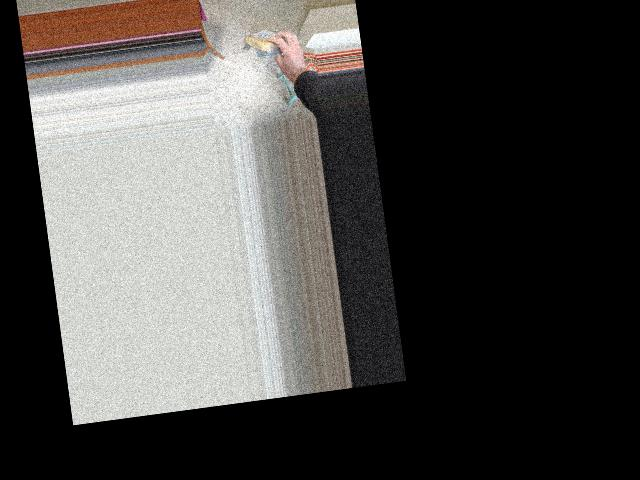cheese: (239, 23, 296, 62)
